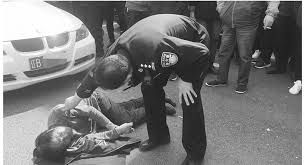fall: (29, 85, 183, 162)
